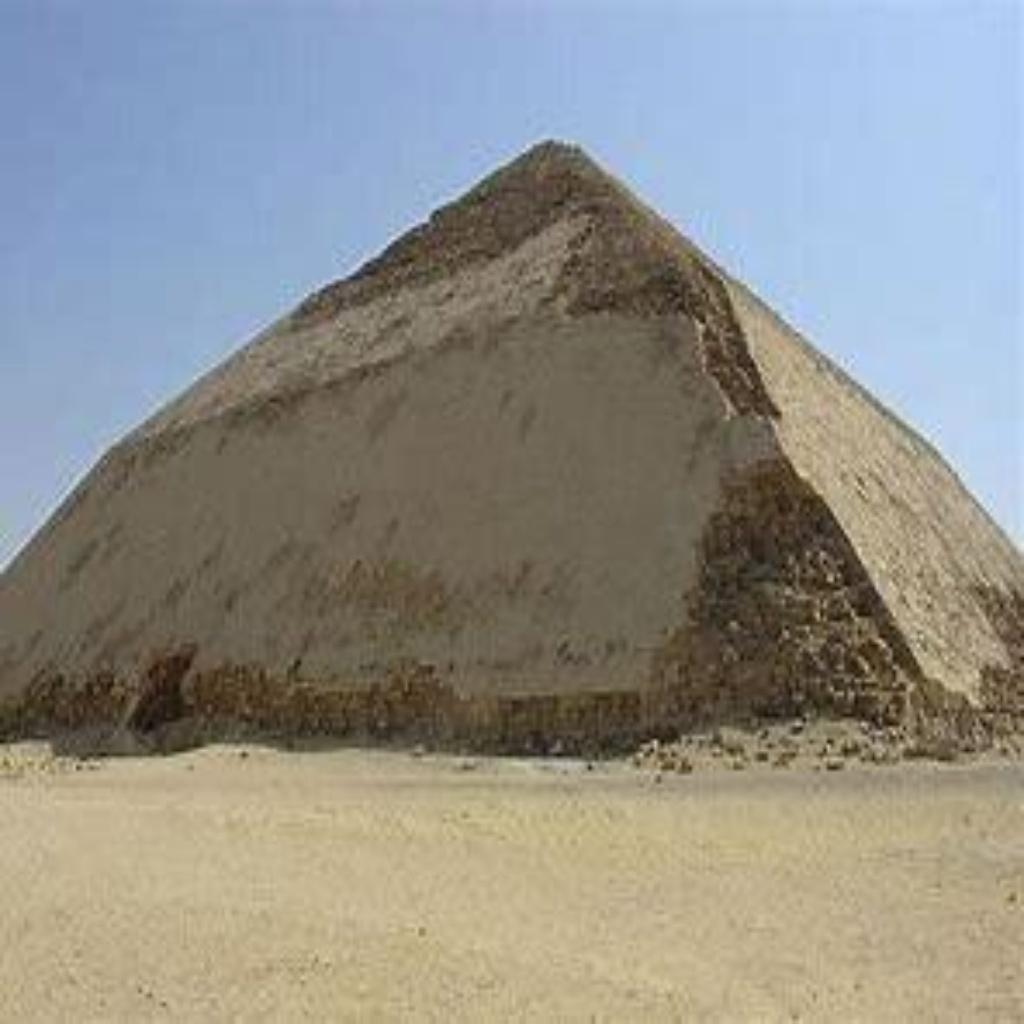Bent Pyramid of King Sneferu: (0, 127, 1021, 757)
